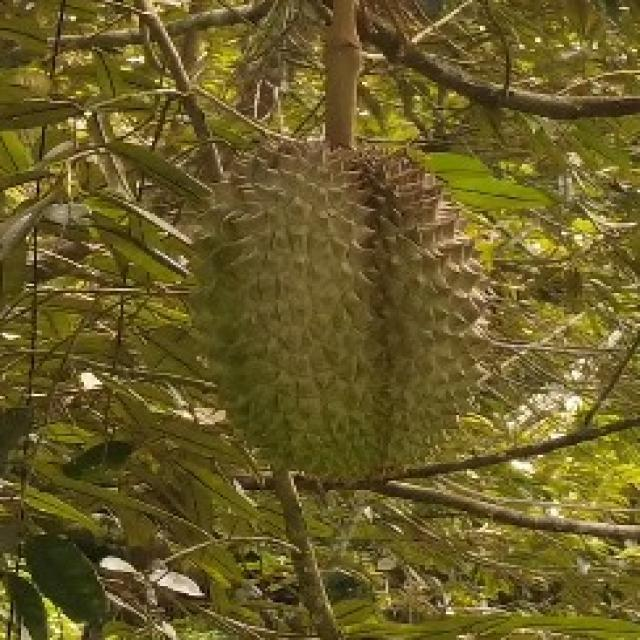mature: (194, 135, 498, 498)
